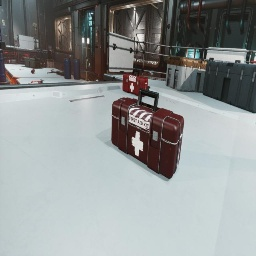0: (30, 82, 38, 84), (95, 80, 99, 81)
EmergencyPhone ,: (2, 18, 5, 25), (52, 48, 54, 53)
FireExtinguisher ]: (28, 81, 43, 84), (31, 69, 35, 74)
FirstAidBox ,: (111, 88, 184, 179), (122, 69, 148, 97)
NitrogenTank ,: (5, 60, 17, 64)
SafetySwitchPanel ,: (96, 26, 100, 42), (48, 46, 52, 56), (245, 59, 246, 63)
